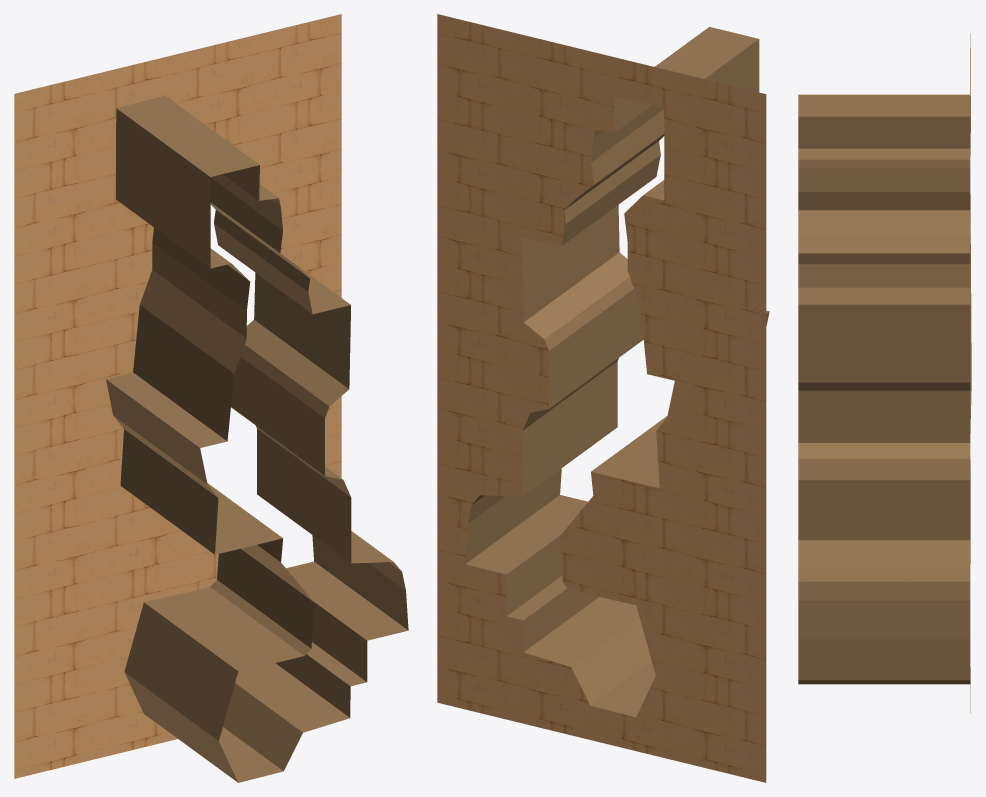
File: Crack_2x4.fbx
The picture shows the model from 3 angles, left to right: view 1: azimuth 30°, elevation 25°; view 2: azimuth 150°, elevation 25°; view 3: azimuth 270°, elevation 25°; orthographic projection. The views are drawn at different scales.
Parts seen in each view (by area): view 1: Crack_2x4; view 2: Crack_2x4; view 3: Crack_2x4.
Part boxes in pixels (box(x1,y1,x2,y2)): Crack_2x4: box(14, 14, 408, 782); Crack_2x4: box(437, 14, 769, 782); Crack_2x4: box(798, 33, 971, 712).
Bounding box in the file's own units: 200 × 400 × 101.
